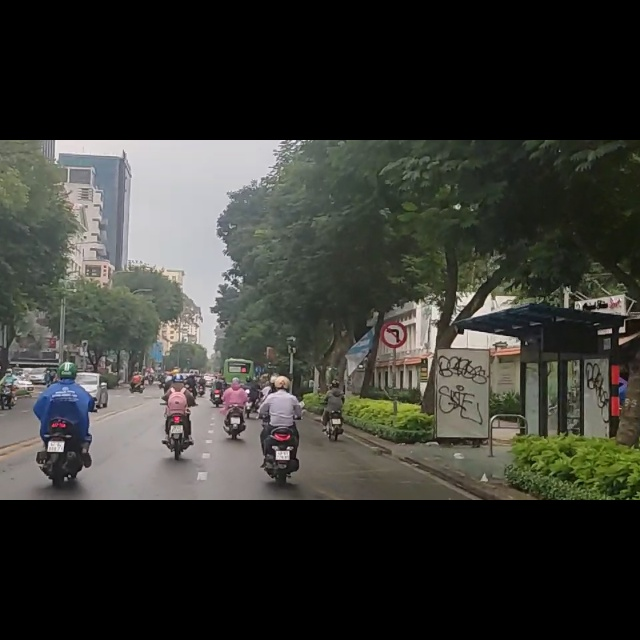bien_cam: (381, 322, 407, 367)
